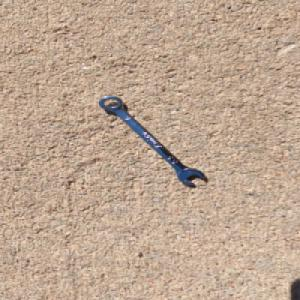Wrench: (97, 94, 209, 186)
